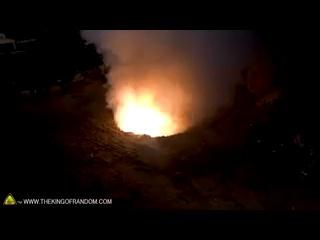Fire: (119, 95, 165, 130)
